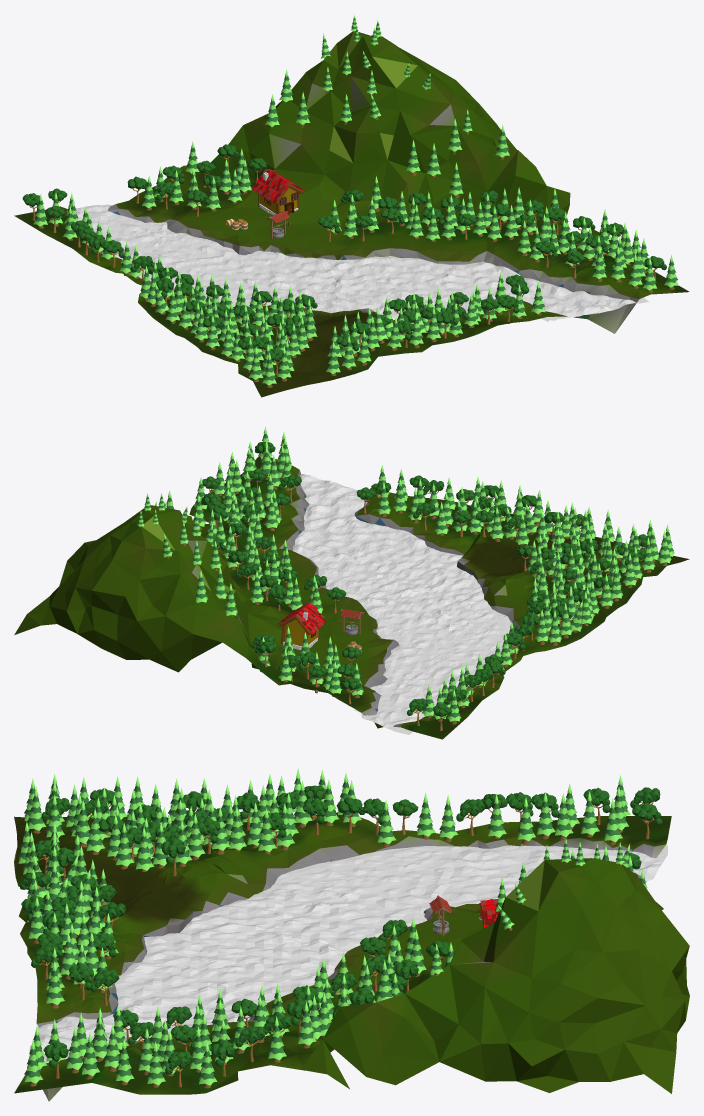
The model's file is river.fbx.
3 renders of one model, top to bottom at view 1: azimuth 30°, elevation 25°; view 2: azimuth 150°, elevation 25°; view 3: azimuth 270°, elevation 25°, orthographic. The views are drawn at different scales.
Visible parts, largest first — view 1: Landscape, Landscape_plane, house; view 2: Landscape, Landscape_plane, house; view 3: Landscape, Landscape_plane, well, tree.009.
Boxes of the visible parts, x1=… form: Landscape: x1=14, y1=31, x2=689, y2=397; Landscape_plane: x1=76, y1=204, x2=648, y2=321; house: x1=251, y1=169, x2=304, y2=215; Landscape: x1=14, y1=456, x2=689, y2=739; Landscape_plane: x1=292, y1=474, x2=511, y2=734; house: x1=277, y1=602, x2=326, y2=650; Landscape: x1=14, y1=812, x2=689, y2=1101; Landscape_plane: x1=29, y1=845, x2=667, y2=1063; well: x1=429, y1=895, x2=452, y2=936; tree.009: x1=632, y1=802, x2=662, y2=839.
Bounding box in the file's own units: 939 × 411 × 965.
